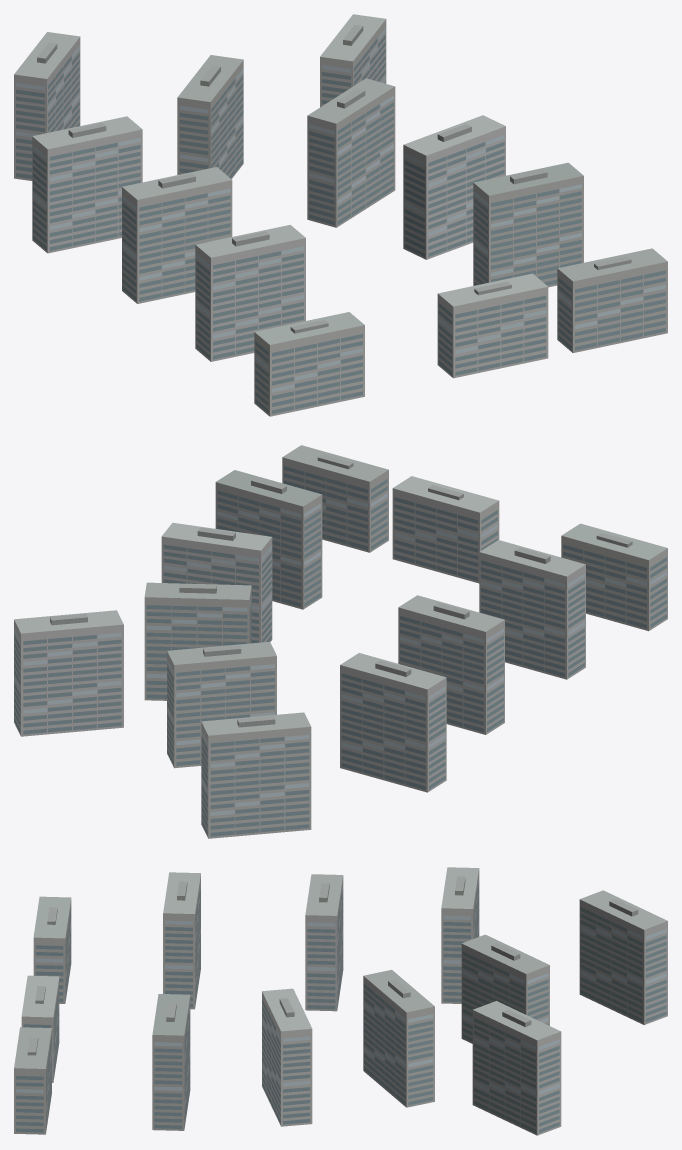
Rendered from apt-a13519007.glb.
The picture shows the model from 3 angles, top to bottom: view 1: azimuth 30°, elevation 25°; view 2: azimuth 150°, elevation 25°; view 3: azimuth 270°, elevation 25°; orthographic projection. The views are drawn at different scales.
Visible parts, largest first — view 1: apt-a13519007; view 2: apt-a13519007; view 3: apt-a13519007.
Boxes of the visible parts, x1,y1,x2,y2 form: apt-a13519007: (14,14,667,416); apt-a13519007: (14,445,667,838); apt-a13519007: (14,867,667,1135).
Size of the model in its own units: 168 by 45 by 267.
